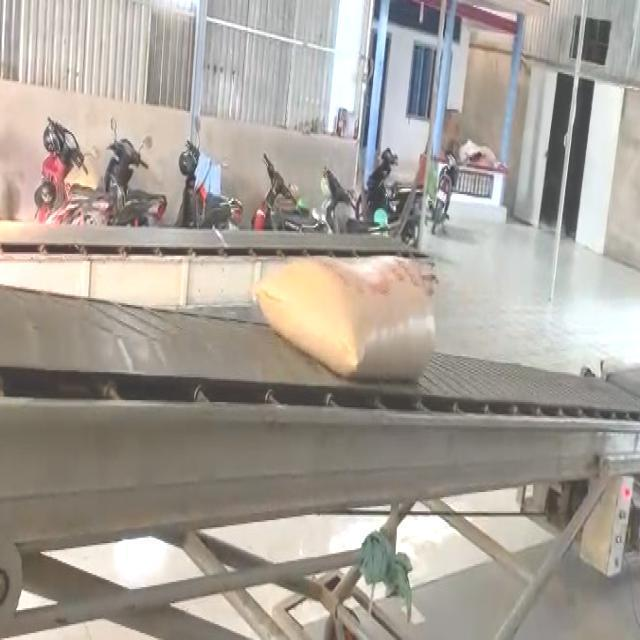gunny_bag: (255, 256, 435, 380)
